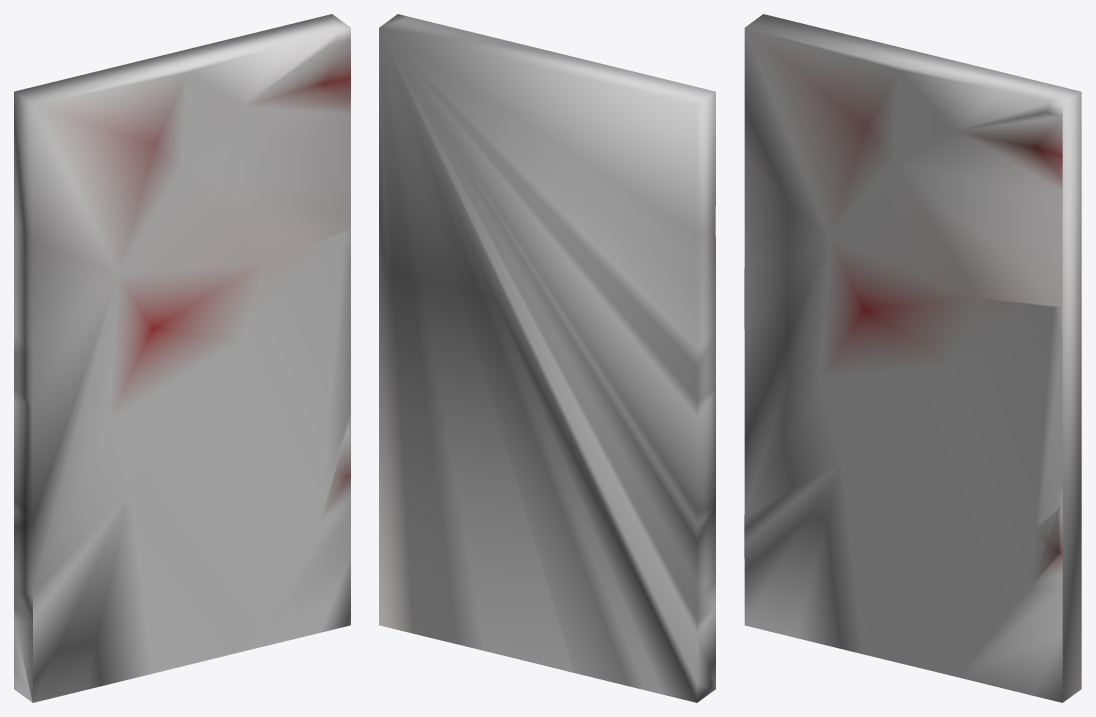
The model's file is SM_FA_Factory_W195_H350.fbx.
3 renders of one model, left to right at view 1: azimuth 30°, elevation 25°; view 2: azimuth 150°, elevation 25°; view 3: azimuth 330°, elevation 25°, orthographic.
Parts seen in each view (by area): view 1: SM_FA_Factory_W195_H350; view 2: SM_FA_Factory_W195_H350; view 3: SM_FA_Factory_W195_H350.
Part boxes in pixels (x1,y1,x2,y2): SM_FA_Factory_W195_H350: (14,14,350,702); SM_FA_Factory_W195_H350: (379,14,715,702); SM_FA_Factory_W195_H350: (744,14,1081,702).
Bounding box in the file's own units: 195 × 20 × 350.
